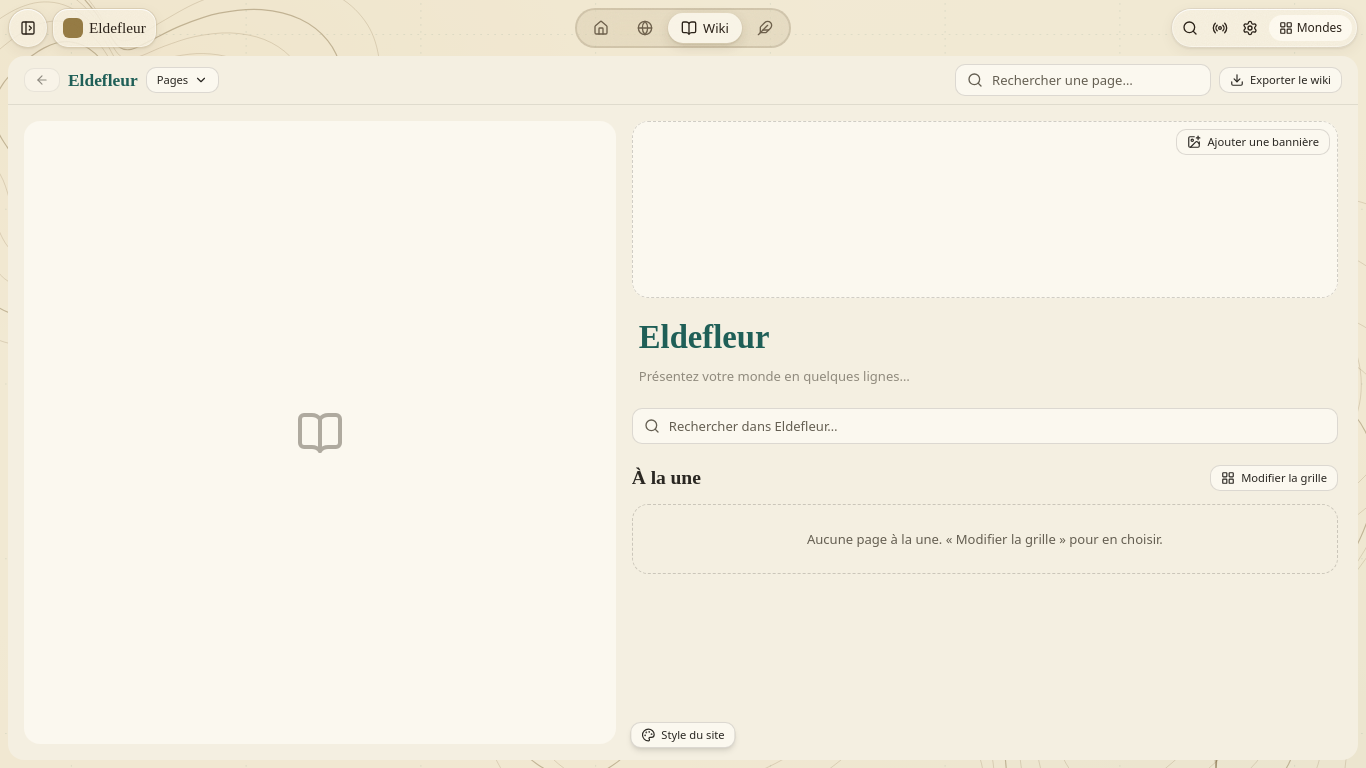
Test: the search finds pages by name, alias or text, and only pages
Type "grand" into the search field labelled "Rechercher dans Eldefleur…" at x=985, y=426, box [632,408,1338,444]
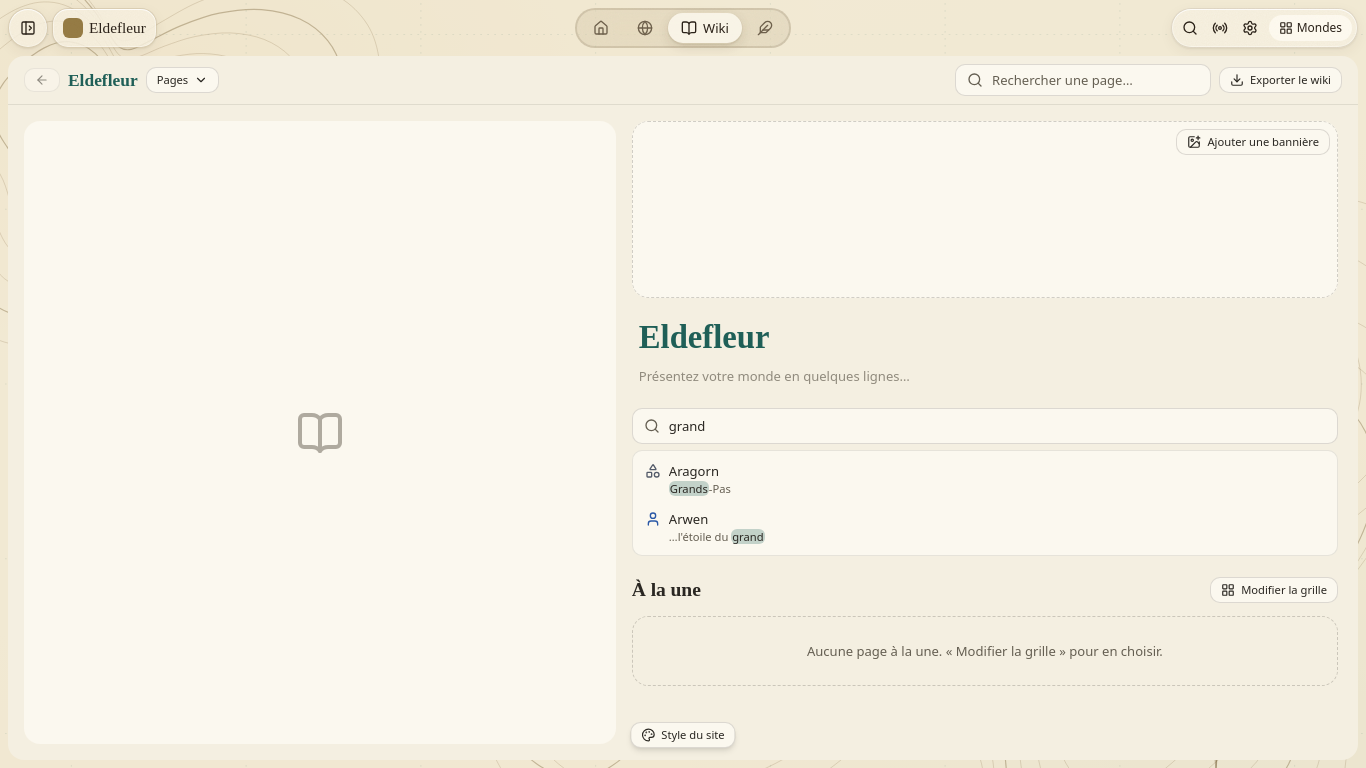
Result: the links read "AragornGrands-Pas", "Arwen…l'étoile du grand", in this order at [645,462,731,496]; [645,510,765,544]
